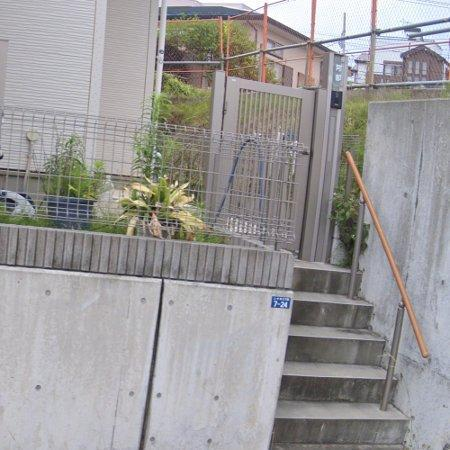stairs: (272, 262, 409, 450)
